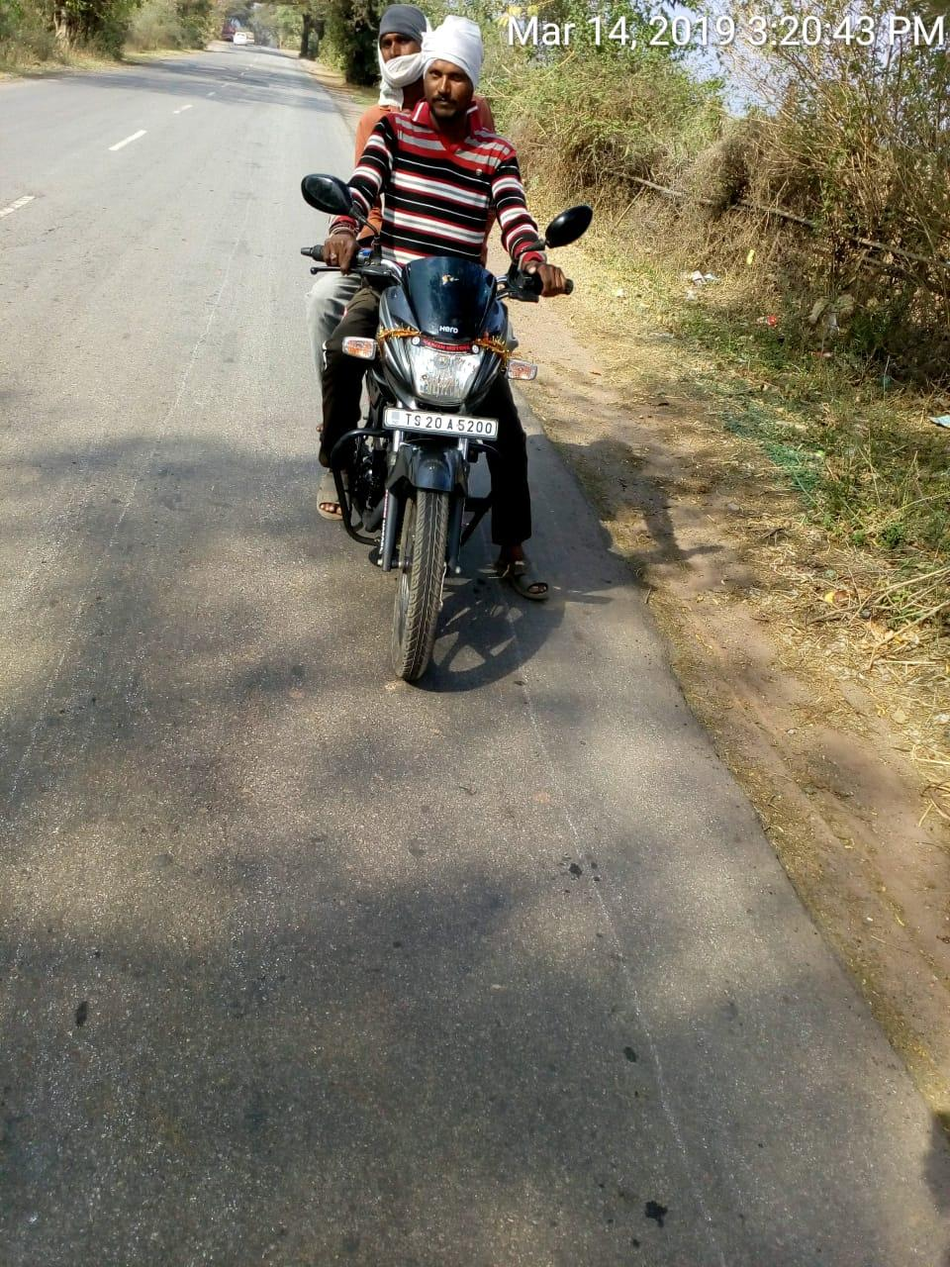plate: (381, 403, 507, 441)
